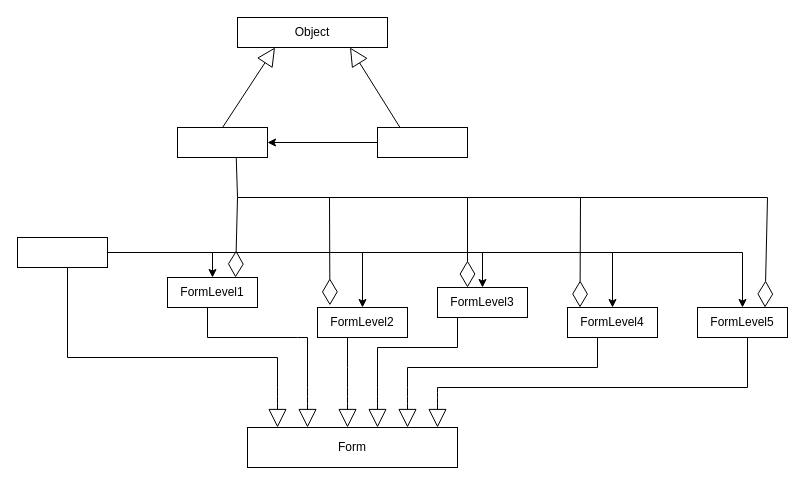
Some shapes in this 811 by 485 pixel diagram are drawn without their labels. The centre of each missing label's shape, as x and y in pixels:
"Basis" belongs at [222,142].
"FormMenu" belongs at [62,252].
"Sound" belongs at [422,142].
